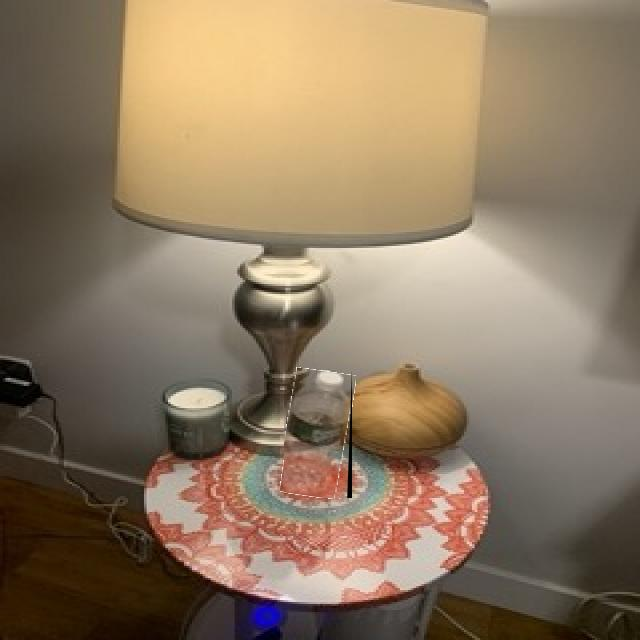water_bottle: (284, 369, 352, 498)
